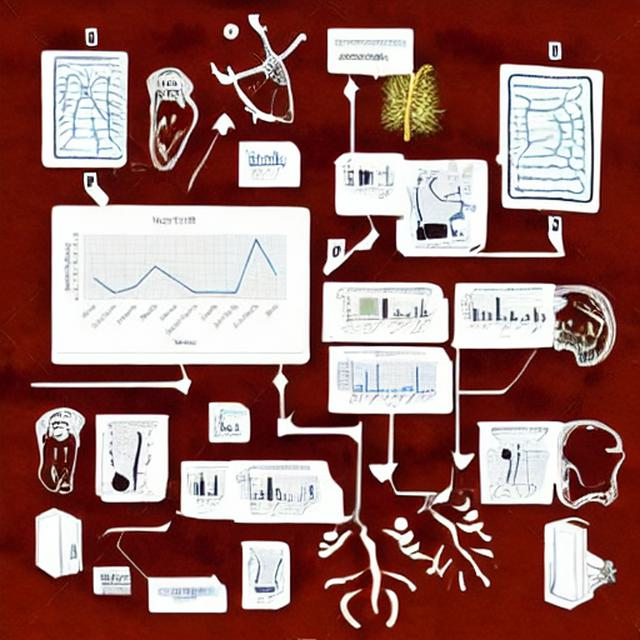Graph: (55, 209, 293, 354), (333, 349, 439, 412), (460, 285, 549, 342)
